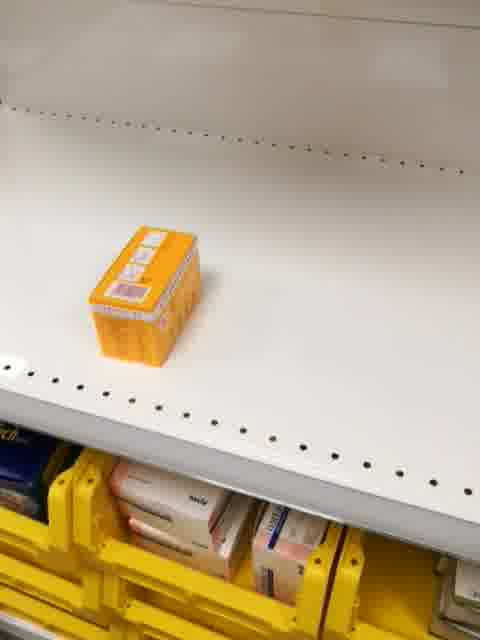jasminetea: (85, 223, 208, 369)
